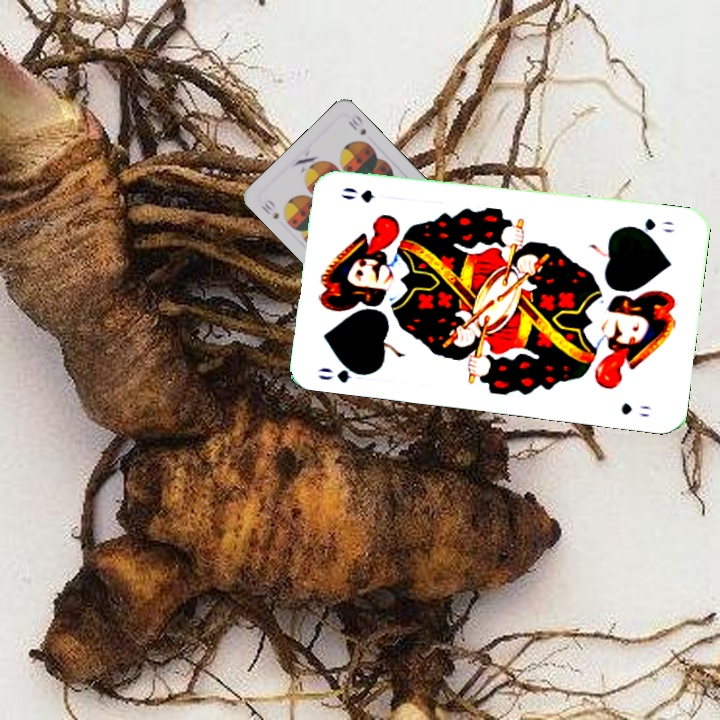GO: (314, 358, 373, 386), (624, 214, 678, 237)
S10: (257, 195, 281, 222)
